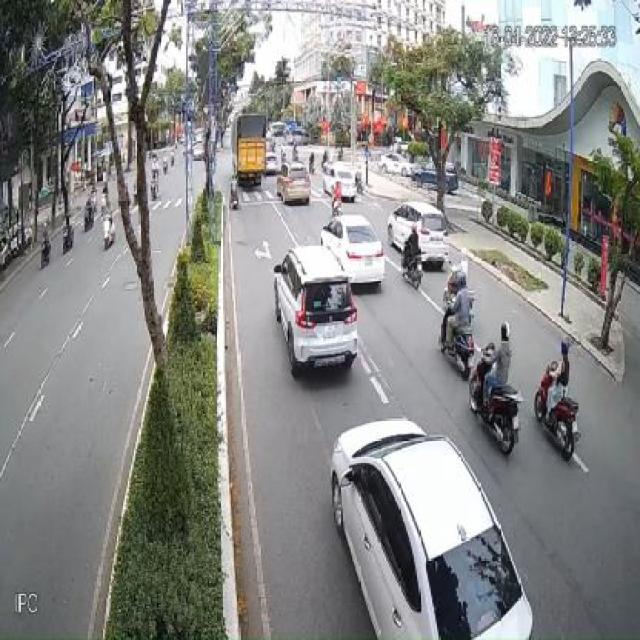car: (322, 412, 542, 640), (272, 247, 358, 380), (319, 214, 386, 292), (382, 198, 450, 272), (278, 164, 312, 208)
motorbike: (471, 321, 522, 457), (537, 337, 582, 463), (437, 270, 475, 380), (398, 229, 426, 296), (39, 223, 51, 269)
